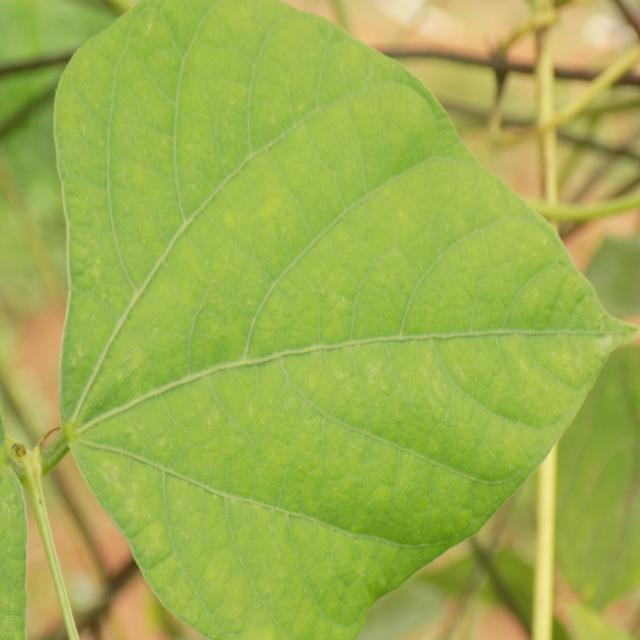Dolicos bean_healthy: (55, 8, 640, 640)
